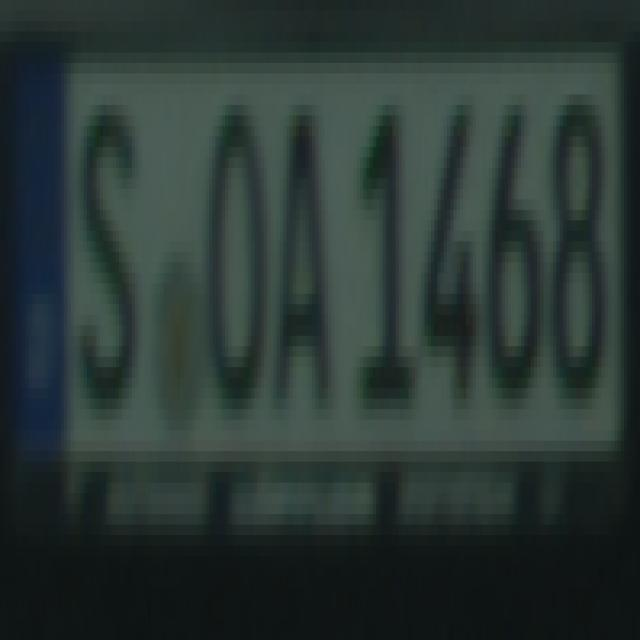Autre: (9, 67, 628, 501)
